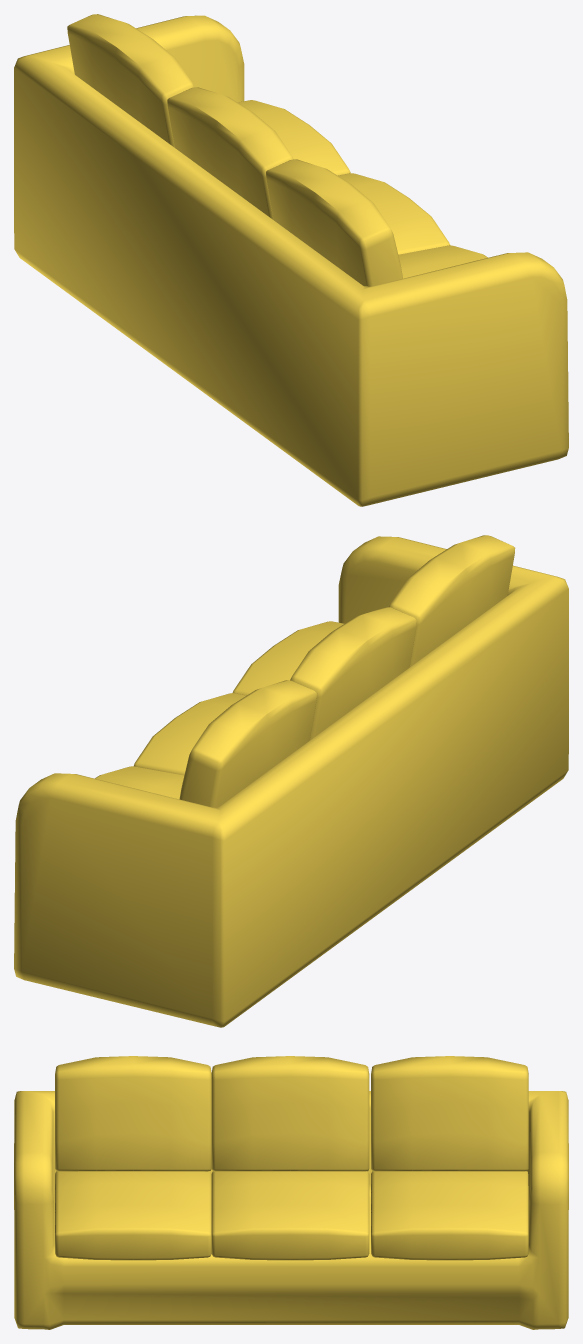
Rendered from Sofa_01_ThreeSeater.glb.
3 renders of one model, top to bottom at view 1: azimuth 30°, elevation 25°; view 2: azimuth 150°, elevation 25°; view 3: azimuth 270°, elevation 25°, orthographic. The views are drawn at different scales.
Parts seen in each view (by area): view 1: Sofa_ThreeSeater; view 2: Sofa_ThreeSeater; view 3: Sofa_ThreeSeater.
Boxes of the visible parts, left/top/right/bottom form: Sofa_ThreeSeater: left=14, top=14, right=568, bottom=506; Sofa_ThreeSeater: left=14, top=535, right=568, bottom=1027; Sofa_ThreeSeater: left=14, top=1056, right=568, bottom=1329.
Size of the model in its own units: 1.03 by 1.16 by 2.78.
Materials: 1 (1 with a texture image).
